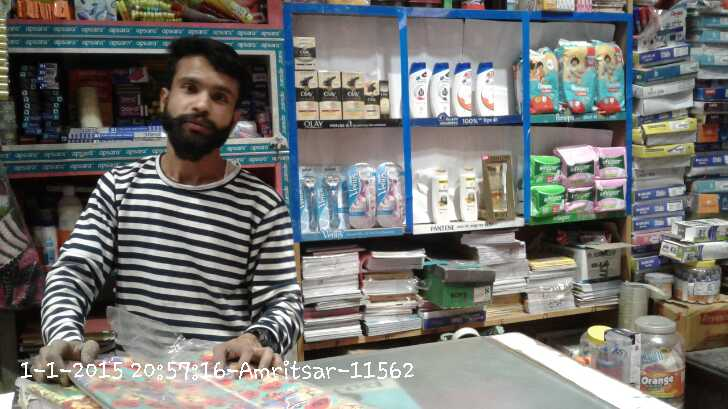venus: (346, 163, 376, 225), (377, 161, 405, 227), (299, 164, 324, 229), (324, 163, 346, 229)
